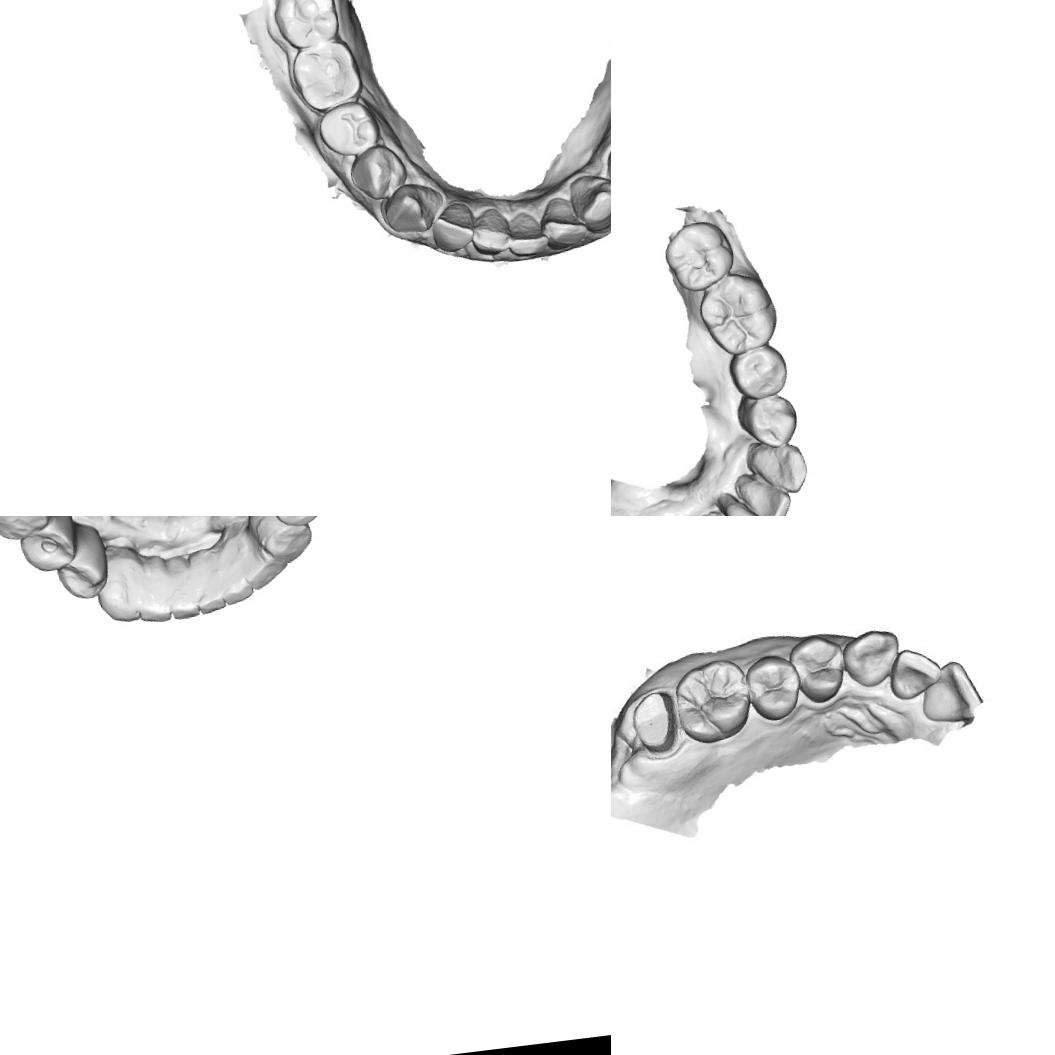canine: (838, 626, 906, 696), (90, 543, 141, 625), (380, 178, 446, 240), (747, 439, 812, 500), (566, 166, 611, 230), (240, 544, 291, 592)
crown: (625, 686, 685, 766)
incisor: (918, 657, 984, 724), (884, 644, 942, 704), (540, 191, 589, 251), (428, 198, 478, 256), (132, 552, 172, 624), (466, 204, 512, 258), (191, 546, 227, 615), (735, 475, 795, 516), (164, 553, 200, 620), (506, 212, 547, 260), (217, 556, 255, 606), (723, 496, 774, 516)
molar: (666, 655, 754, 749), (694, 269, 782, 360), (285, 35, 368, 116), (659, 216, 734, 296), (268, 0, 343, 53)
premolar: (50, 518, 112, 602), (744, 652, 804, 725), (733, 388, 801, 452), (724, 341, 793, 404), (789, 636, 849, 706), (316, 98, 383, 160), (13, 516, 80, 575), (346, 140, 408, 201), (244, 516, 316, 568)
